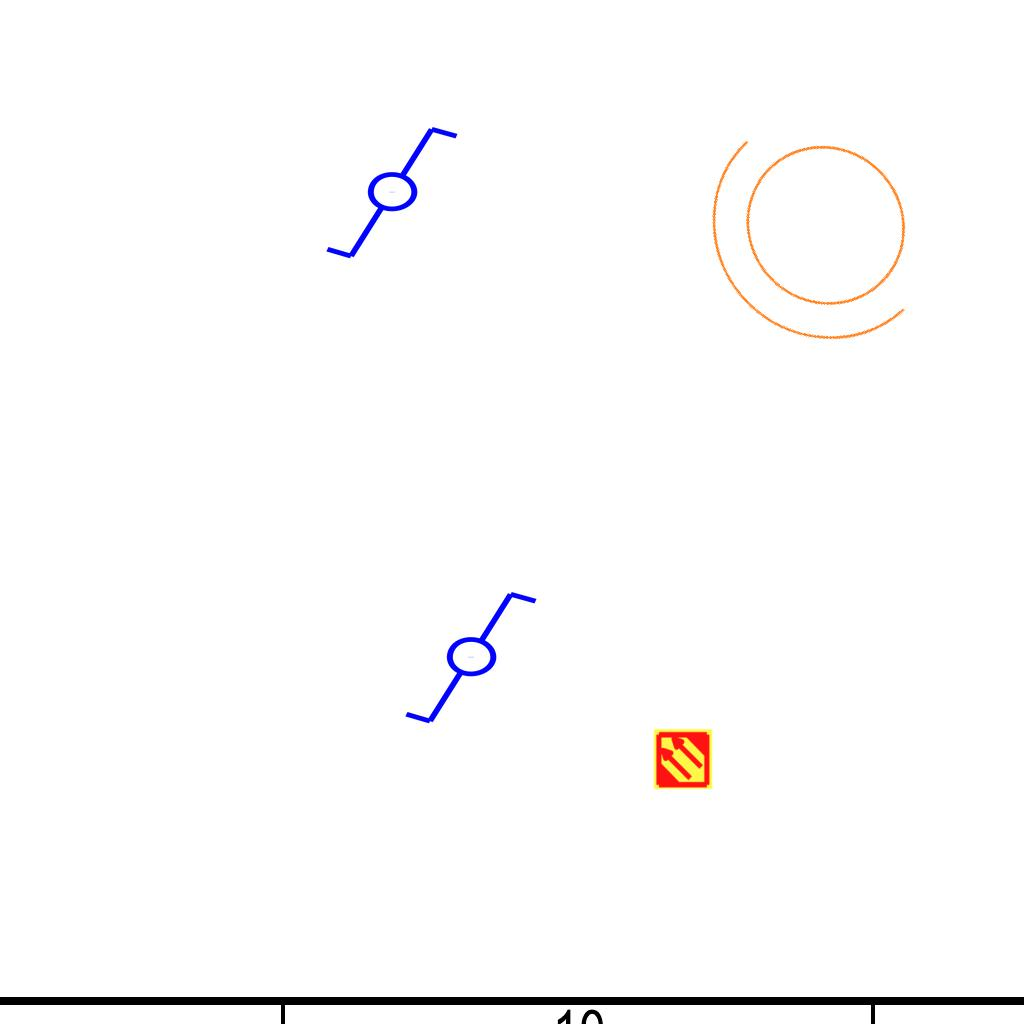ASR_Ansaugrauchmelder: (652, 728, 714, 790)
Scheinwerfer_fuer_Alarmbeleuchtung: (650, 63, 996, 410)
Wechselschalter: (401, 587, 558, 731), (322, 122, 479, 266)
